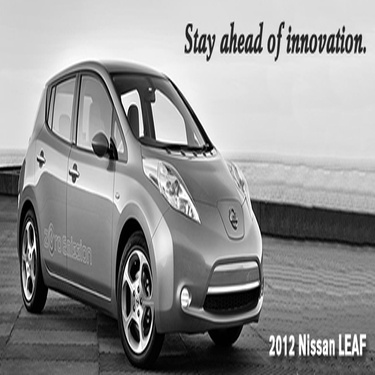car: (1, 55, 269, 367)
